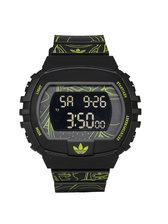watch: (17, 29, 144, 200)
